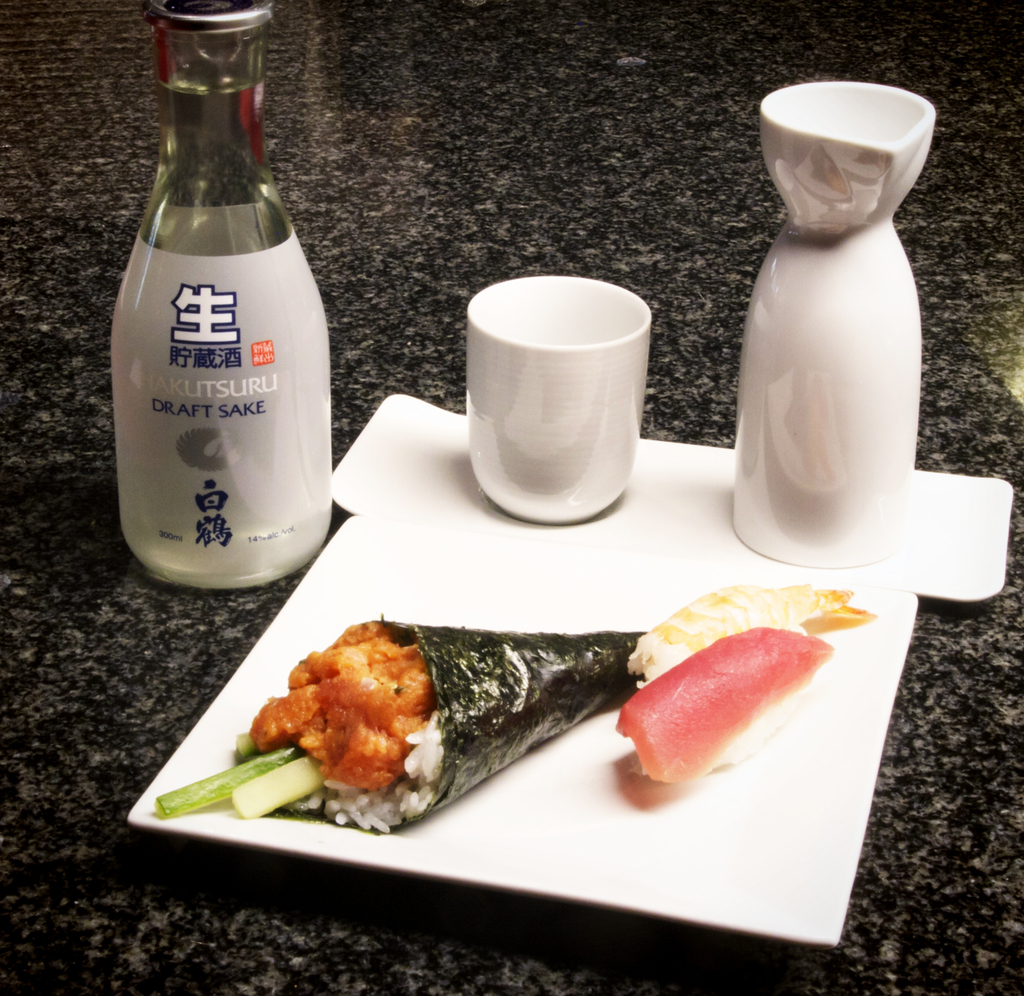sushi: (150, 616, 636, 833), (618, 610, 824, 814)
